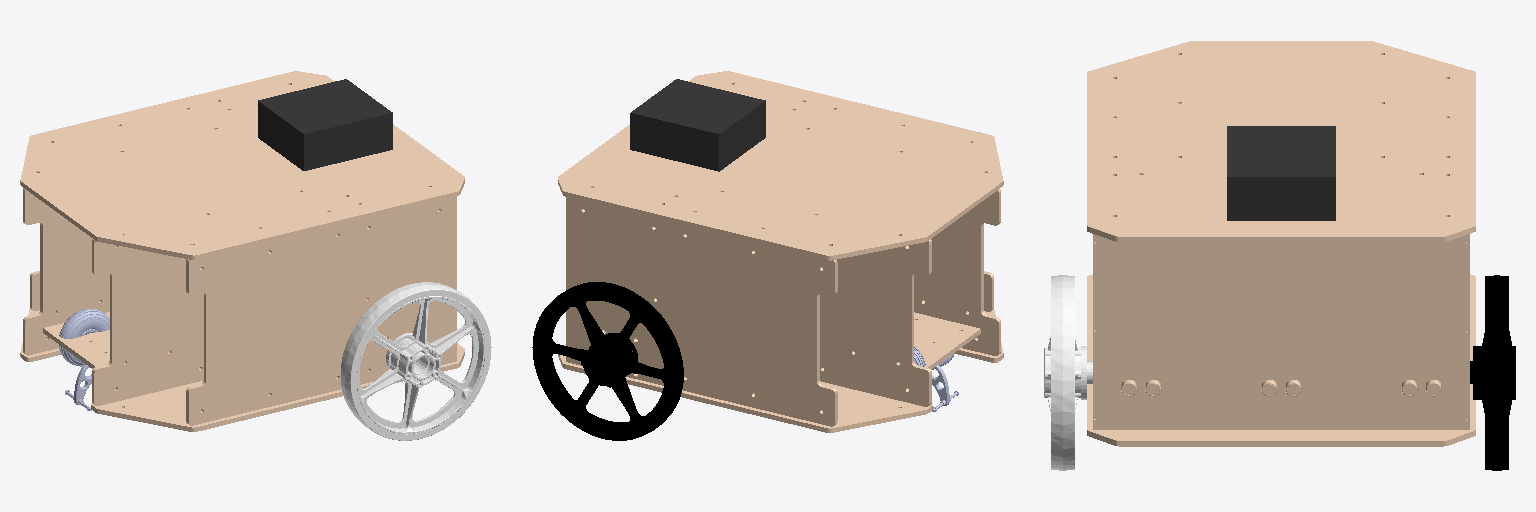
robot.urdf — final_description:
<robot
  name="final_description">
  <link
    name="base_link">
    <inertial>
      <origin
        xyz="-0.0542102930126108 -0.00147372643899868 0.030052049722662"
        rpy="0 0 0" />
      <mass
        value="12.6996504557446" />
      <inertia
        ixx="0.204547339739001"
        ixy="-0.00137510220264843"
        ixz="-0.0219088420664967"
        iyy="0.18075396064092"
        iyz="0.000599165089979215"
        izz="0.272229743771322" />
    </inertial>
    <visual>
      <origin
        xyz="0 0 0"
        rpy="0 0 0" />
      <geometry>
        <mesh
          filename="package://final_description/meshes/base_link.STL" />
      </geometry>
      <material
        name="">
        <color
          rgba="0.996078431372549 0.870588235294118 0.76078431372549 1" />
      </material>
    </visual>
    <collision>
      <origin
        xyz="0 0 0"
        rpy="0 0 0" />
      <geometry>
        <mesh
          filename="package://final_description/meshes/base_link.STL" />
      </geometry>
    </collision>
  </link>
  <link
    name="base_laser">
    <inertial>
      <origin
        xyz="0.0127 1.27087771103731E-19 -0.0254"
        rpy="0 0 0" />
      <mass
        value="0.7521662376" />
      <inertia
        ixx="0.000980644880738574"
        ixy="-2.68989534912001E-19"
        ixz="-1.37318069412529E-21"
        iyy="0.00117272996047087"
        iyz="-7.16140114664618E-36"
        izz="0.0018298631279761" />
    </inertial>
    <visual>
      <origin
        xyz="0 0 0"
        rpy="0 0 0" />
      <geometry>
        <mesh
          filename="package://final_description/meshes/base_laser.STL" />
      </geometry>
      <material
        name="">
        <color
          rgba="0.250980392156863 0.250980392156863 0.250980392156863 1" />
      </material>
    </visual>
    <collision>
      <origin
        xyz="0 0 0"
        rpy="0 0 0" />
      <geometry>
        <mesh
          filename="package://final_description/meshes/base_laser.STL" />
      </geometry>
    </collision>
  </link>
  <joint
    name="laser_joint"
    type="fixed">
    <origin
      xyz="-0.01095 0 0.25575"
      rpy="1.4539E-33 -3.4423E-17 -4.2237E-17" />
    <parent
      link="base_link" />
    <child
      link="base_laser" />
    <axis
      xyz="0 0 0" />
  </joint>
  <link
    name="left_wheel_link">
    <inertial>
      <origin
        xyz="-1.02697830889065E-05 0.0207696125417688 -1.29881572009938E-06"
        rpy="0 0 0" />
      <mass
        value="0.360809172043754" />
      <inertia
        ixx="0.00106675827256857"
        ixy="1.00199366250097E-07"
        ixz="-5.46170508888008E-09"
        iyy="0.00202538580830831"
        iyz="7.42904254207973E-09"
        izz="0.00106727492610413" />
    </inertial>
    <visual>
      <origin
        xyz="0 0 0"
        rpy="0 0 0" />
      <geometry>
        <mesh
          filename="package://final_description/meshes/left_wheel_link.STL" />
      </geometry>
      <material
        name="">
        <color
          rgba="0 0 0 1" />
      </material>
    </visual>
    <collision>
      <origin
        xyz="0 0 0"
        rpy="0 0 0" />
      <geometry>
        <mesh
          filename="package://final_description/meshes/left_wheel_link.STL" />
      </geometry>
    </collision>
  </link>
  <joint
    name="left_wheel_joint"
    type="continuous">
    <origin
      xyz="0 0.19979 0"
      rpy="0 -3.4423E-17 0" />
    <parent
      link="base_link" />
    <child
      link="left_wheel_link" />
    <axis
      xyz="0 -1 0" />
  </joint>
  <link
    name="right_wheel_link">
    <inertial>
      <origin
        xyz="-7.84481351270849E-06 -0.0207696125417685 -2.84905793875717E-06"
        rpy="0 0 0" />
      <mass
        value="0.360809172043695" />
      <inertia
        ixx="0.00106697353985248"
        ixy="-9.44069048271625E-08"
        ixz="-2.70312200163111E-07"
        iyy="0.00202538582183835"
        iyz="-1.71229823500415E-08"
        izz="0.00106705967235024" />
    </inertial>
    <visual>
      <origin
        xyz="0 0 0"
        rpy="0 0 0" />
      <geometry>
        <mesh
          filename="package://final_description/meshes/right_wheel_link.STL" />
      </geometry>
      <material
        name="">
        <color
          rgba="1 1 1 1" />
      </material>
    </visual>
    <collision>
      <origin
        xyz="0 0 0"
        rpy="0 0 0" />
      <geometry>
        <mesh
          filename="package://final_description/meshes/right_wheel_link.STL" />
      </geometry>
    </collision>
  </link>
  <joint
    name="right_wheel_joint"
    type="continuous">
    <origin
      xyz="0 -0.20291 0"
      rpy="0 -3.4423E-17 0" />
    <parent
      link="base_link" />
    <child
      link="right_wheel_link" />
    <axis
      xyz="0 1 0" />
  </joint>
  <link
    name="rear_caster_link">
    <inertial>
      <origin
        xyz="-0.0145051914736939 1.27609826723198E-08 -0.0267008820899361"
        rpy="0 0 0" />
      <mass
        value="0.013967106304125" />
      <inertia
        ixx="3.65783748314741E-06"
        ixy="-6.1238514706205E-12"
        ixz="2.23670176886623E-06"
        iyy="6.47276824188859E-06"
        iyz="-1.48142589566201E-11"
        izz="3.77349384162539E-06" />
    </inertial>
    <visual>
      <origin
        xyz="0 0 0"
        rpy="0 0 0" />
      <geometry>
        <mesh
          filename="package://final_description/meshes/rear_caster_link.STL" />
      </geometry>
      <material
        name="">
        <color
          rgba="0.796078431372549 0.823529411764706 0.937254901960784 1" />
      </material>
    </visual>
    <collision>
      <origin
        xyz="0 0 0"
        rpy="0 0 0" />
      <geometry>
        <mesh
          filename="package://final_description/meshes/rear_caster_link.STL" />
      </geometry>
    </collision>
  </link>
  <joint
    name="rear_caster_joint"
    type="continuous">
    <origin
      xyz="-0.31195 0 -0.00604"
      rpy="-3.047E-33 -1.0831E-17 8.8518E-17" />
    <parent
      link="base_link" />
    <child
      link="rear_caster_link" />
    <axis
      xyz="0 0 -1" />
  </joint>
  <link
    name="left_caster_link">
    <inertial>
      <origin
        xyz="-0.0387985 0.0177164999999773 -0.0579120000000001"
        rpy="0 0 0" />
      <mass
        value="0.0814912470443748" />
      <inertia
        ixx="3.00969011069376E-05"
        ixy="-3.14217097100956E-20"
        ixz="5.59031486352145E-21"
        iyy="5.45189673119831E-05"
        iyz="3.60522749706849E-20"
        izz="3.00969011069376E-05" />
    </inertial>
    <visual>
      <origin
        xyz="0 0 0"
        rpy="0 0 0" />
      <geometry>
        <mesh
          filename="package://final_description/meshes/left_caster_link.STL" />
      </geometry>
      <material
        name="">
        <color
          rgba="0.796078431372549 0.823529411764706 0.937254901960784 1" />
      </material>
    </visual>
    <collision>
      <origin
        xyz="0 0 0"
        rpy="0 0 0" />
      <geometry>
        <mesh
          filename="package://final_description/meshes/left_caster_link.STL" />
      </geometry>
    </collision>
  </link>
  <joint
    name="left_caster_joint"
    type="continuous">
    <origin
      xyz="0 0 0"
      rpy="0 0 0" />
    <parent
      link="rear_caster_link" />
    <child
      link="left_caster_link" />
    <axis
      xyz="0 -1 0" />
  </joint>
  <link
    name="right_caster_link">
    <inertial>
      <origin
        xyz="0.0176910999999773 0.0604519999999999 0.0387985"
        rpy="0 0 0" />
      <mass
        value="0.0814912470443749" />
      <inertia
        ixx="5.45189673119832E-05"
        ixy="3.86584233492547E-20"
        ixz="1.59539578754955E-20"
        iyy="3.00969011069377E-05"
        iyz="7.6232965252887E-21"
        izz="3.00969011069377E-05" />
    </inertial>
    <visual>
      <origin
        xyz="0 0 0"
        rpy="0 0 0" />
      <geometry>
        <mesh
          filename="package://final_description/meshes/right_caster_link.STL" />
      </geometry>
      <material
        name="">
        <color
          rgba="0.796078431372549 0.823529411764706 0.937254901960784 1" />
      </material>
    </visual>
    <collision>
      <origin
        xyz="0 0 0"
        rpy="0 0 0" />
      <geometry>
        <mesh
          filename="package://final_description/meshes/right_caster_link.STL" />
      </geometry>
    </collision>
  </link>
  <joint
    name="right_caster_joint"
    type="continuous">
    <origin
      xyz="0.014747 -0.035382 -0.010031"
      rpy="-1.3002 -5.9492E-33 1.5708" />
    <parent
      link="rear_caster_link" />
    <child
      link="right_caster_link" />
    <axis
      xyz="-1 0 0" />
  </joint>
 <gazebo>
    <plugin name="differential_drive_controller" filename="libgazebo_ros_diff_drive.so">
      <leftJoint>left_wheel_joint</leftJoint>
      <rightJoint>right_wheel_joint</rightJoint>
      <robotBaseFrame>base_link</robotBaseFrame>
      <wheelSeparation>0.45</wheelSeparation>
      <wheelDiameter>0.2</wheelDiameter>
      <publishWheelJointState>true</publishWheelJointState>
    </plugin>
  </gazebo>
</robot>

--- Render facts (derived) ---
The picture shows the robot from 3 angles, left to right: view 1: azimuth 30°, elevation 25°; view 2: azimuth 150°, elevation 25°; view 3: azimuth 270°, elevation 25°; orthographic projection.
Model final_description with 7 links and 6 joints (5 continuous, 1 fixed), rooted at base_link, posed every joint at zero.
Visible links, largest first — view 1: base_link, right_wheel_link, base_laser, left_caster_link; view 2: base_link, left_wheel_link, base_laser; view 3: base_link, base_laser, right_wheel_link, left_wheel_link.
Boxes of the visible links, x1,y1,x2,y2 form: base_link: (20, 71, 464, 431); right_wheel_link: (341, 282, 491, 440); base_laser: (258, 79, 392, 170); left_caster_link: (59, 309, 109, 366); base_link: (558, 71, 1003, 432); left_wheel_link: (532, 282, 683, 440); base_laser: (630, 79, 765, 171); base_link: (1087, 41, 1475, 446); base_laser: (1227, 126, 1335, 220); right_wheel_link: (1044, 275, 1092, 470); left_wheel_link: (1470, 275, 1515, 470).
Size in the robot's own frame: 0.4826 by 0.4909 by 0.3579 metres.
7 mesh visuals loaded from 7 distinct referenced files (7 binary STL).